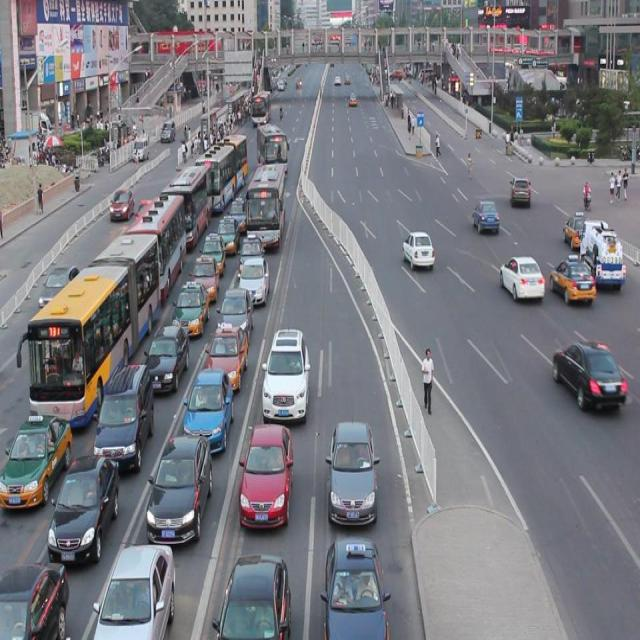bus: (577, 219, 623, 289)
car: (94, 538, 175, 640), (48, 452, 120, 554), (321, 535, 389, 640), (148, 428, 213, 536), (214, 551, 290, 640), (0, 411, 70, 503), (94, 358, 154, 461), (0, 554, 68, 640), (550, 336, 625, 409), (327, 417, 380, 517), (240, 422, 294, 517), (262, 325, 310, 415), (185, 364, 233, 442), (146, 317, 189, 386), (205, 320, 248, 384), (547, 252, 594, 304), (498, 252, 543, 301), (218, 284, 254, 339), (174, 278, 210, 330), (38, 266, 79, 306), (241, 252, 270, 298), (190, 250, 220, 294), (402, 230, 434, 268), (200, 229, 226, 269), (471, 199, 498, 235), (240, 228, 263, 270), (561, 212, 588, 247), (216, 210, 239, 246), (227, 191, 250, 226), (111, 190, 134, 219), (509, 174, 529, 206), (135, 198, 152, 222)
van: (16, 230, 160, 421), (123, 187, 186, 296), (197, 125, 247, 203), (246, 162, 286, 249), (168, 158, 208, 241), (256, 123, 288, 177)
